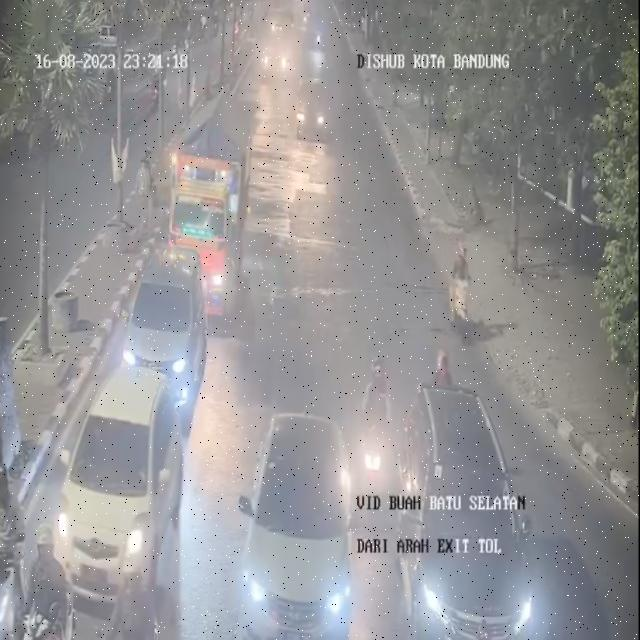cars: (393, 367, 531, 630), (39, 361, 188, 604), (243, 394, 357, 640), (118, 237, 204, 419), (294, 72, 333, 156)
motorcycle: (27, 515, 65, 632), (0, 455, 24, 640), (108, 544, 154, 640), (446, 237, 484, 347), (422, 345, 453, 388)
truck: (172, 95, 260, 320)
